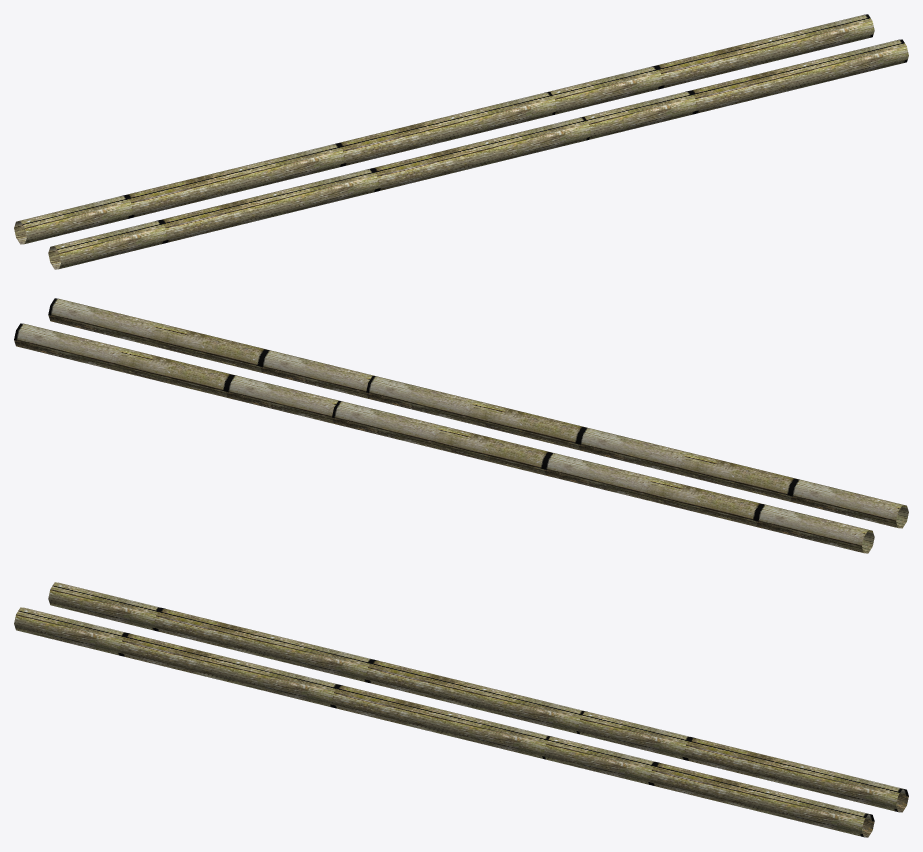
Rendered from SINGLE-PIPE.fbx.
3 views of the same model, one above another, from view 1: azimuth 30°, elevation 25°; view 2: azimuth 150°, elevation 25°; view 3: azimuth 330°, elevation 25° (orthographic).
Visible parts, largest first — view 1: MMM; view 2: MMM; view 3: MMM.
Part boxes in pixels (x1,y1,x2,y2): MMM: (14,14,908,269); MMM: (14,298,908,553); MMM: (14,582,908,837).
Size of the model in its own units: 800 by 21.13 by 77.13.
